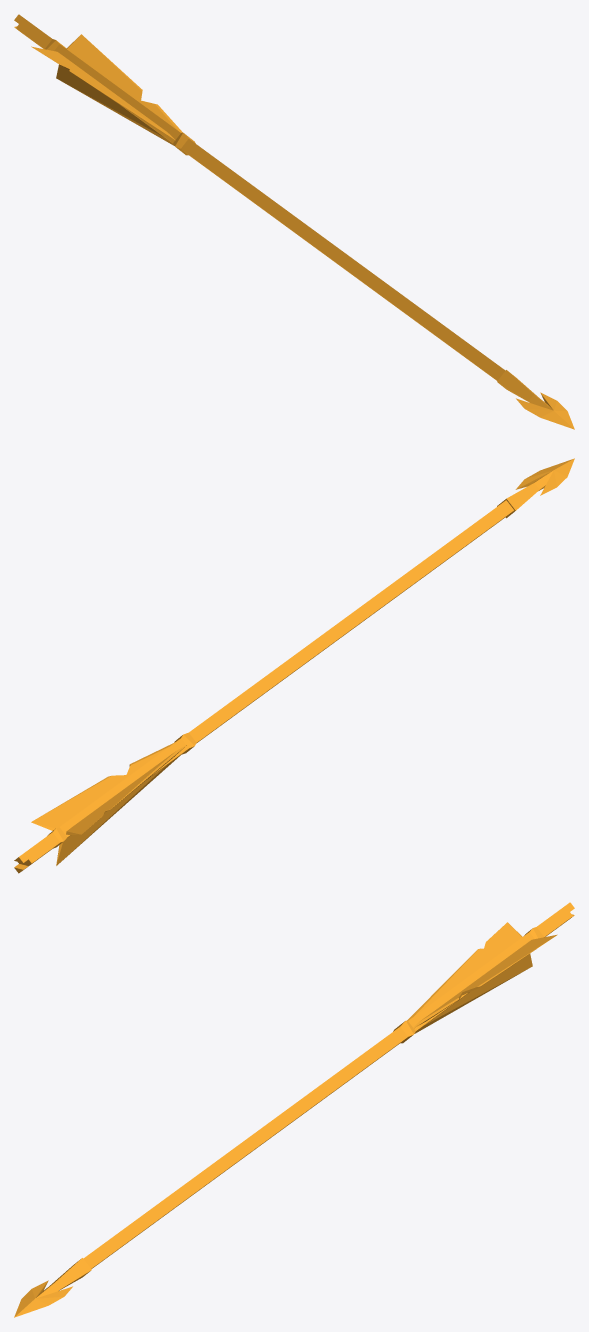
File: SM_Arrow_B_Fantasy.fbx
The picture shows the model from 3 angles, top to bottom: view 1: azimuth 30°, elevation 25°; view 2: azimuth 150°, elevation 25°; view 3: azimuth 330°, elevation 25°; orthographic projection.
Parts seen in each view (by area): view 1: arrow-b-fantasy; view 2: arrow-b-fantasy; view 3: arrow-b-fantasy.
Part boxes in pixels (box(x1,y1,x2,y2)): arrow-b-fantasy: box(14, 14, 574, 429); arrow-b-fantasy: box(14, 458, 574, 873); arrow-b-fantasy: box(14, 902, 574, 1317).
Bounding box in the file's own units: 0.054 × 0.0395 × 1.03.
